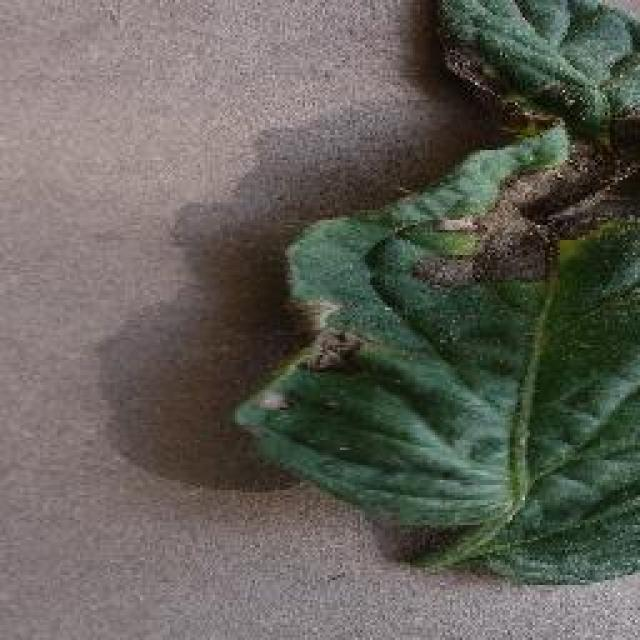Tomato___Early_blight: (221, 0, 638, 584)
